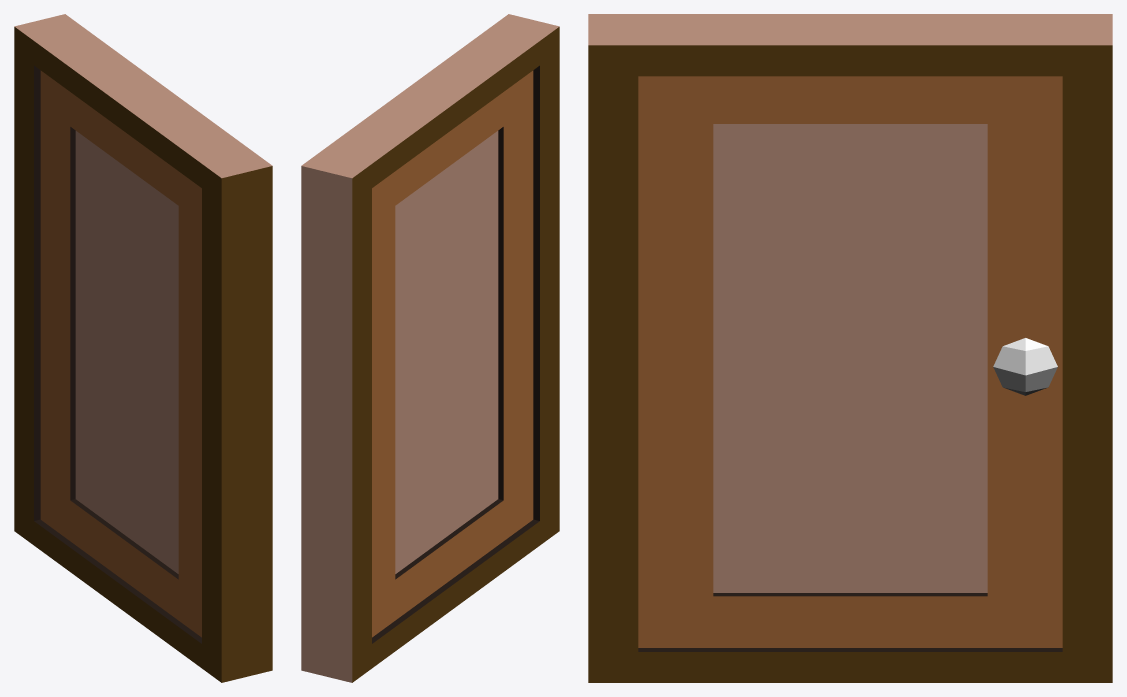
File: Closet door.fbx
3 views of the same model, side by side, from view 1: azimuth 30°, elevation 25°; view 2: azimuth 150°, elevation 25°; view 3: azimuth 270°, elevation 25° (orthographic). The views are drawn at different scales.
Parts seen in each view (by area): view 1: Cube; view 2: Cube; view 3: Cube.
Part boxes in pixels (left/top/right/bottom): Cube: left=14, top=14, right=272, bottom=682; Cube: left=301, top=14, right=559, bottom=682; Cube: left=588, top=14, right=1112, bottom=682.
Bounding box in the file's own units: 59.41 × 352 × 262.
1 material, 1 textured.
